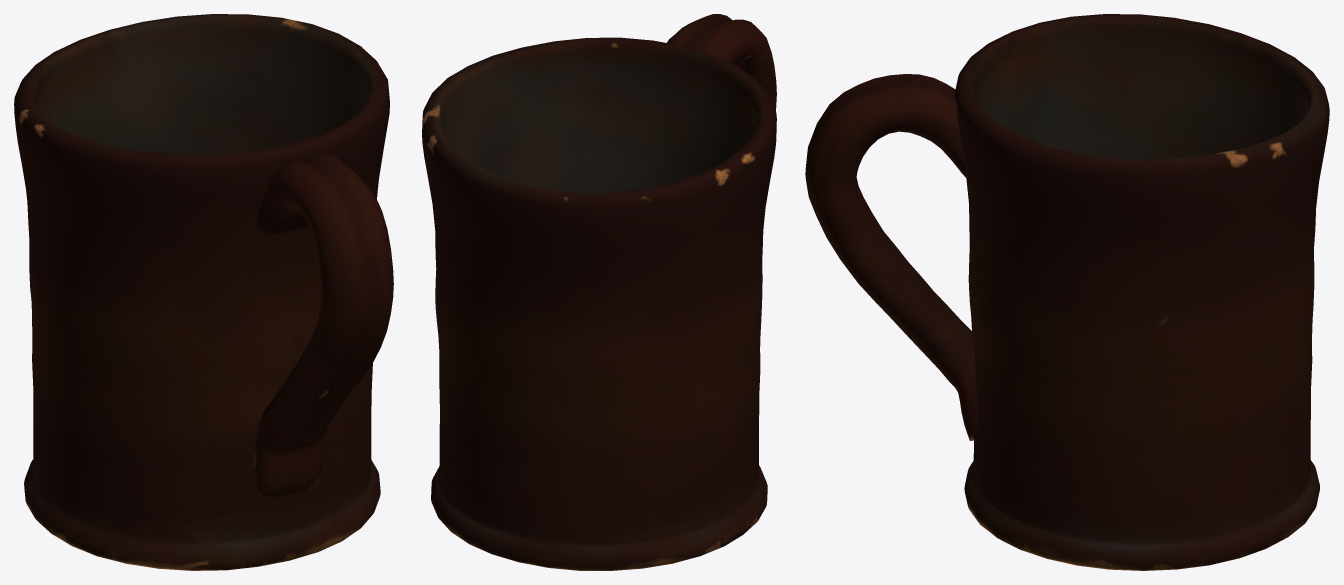
The model's file is HT3D_21_007_BrownGlazedMug_VRready_v002_JRB.fbx.
3 renders of one model, left to right at view 1: azimuth 30°, elevation 25°; view 2: azimuth 150°, elevation 25°; view 3: azimuth 270°, elevation 25°, orthographic. The views are drawn at different scales.
Parts seen in each view (by area): view 1: Cup, Handle; view 2: Cup, Handle; view 3: Cup, Handle.
Part boxes in pixels (x1,y1,x2,y2): Cup: (14,14,389,570); Handle: (254,153,393,497); Cup: (422,37,776,570); Handle: (667,14,776,110); Cup: (954,14,1329,570); Handle: (805,74,978,440).
Bounding box in the file's own units: 1.15 × 1.43 × 1.6.
Materials: 2 (2 with a texture image).
